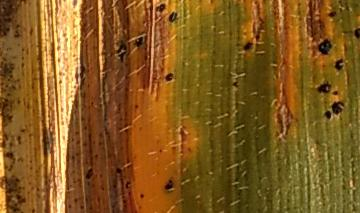tarspot: (114, 39, 128, 63), (317, 38, 333, 56), (330, 99, 346, 116), (78, 60, 87, 90), (314, 80, 333, 94), (133, 35, 145, 50), (167, 10, 178, 25), (334, 57, 345, 72), (84, 166, 95, 181), (154, 3, 167, 15), (163, 177, 174, 190), (164, 72, 176, 83), (242, 40, 253, 51), (322, 109, 333, 120), (146, 1, 155, 14), (353, 27, 360, 40), (113, 166, 124, 174), (330, 89, 339, 98), (327, 11, 337, 19), (231, 79, 239, 89), (123, 180, 131, 188), (132, 103, 140, 110), (138, 192, 145, 199), (208, 1, 215, 6)
